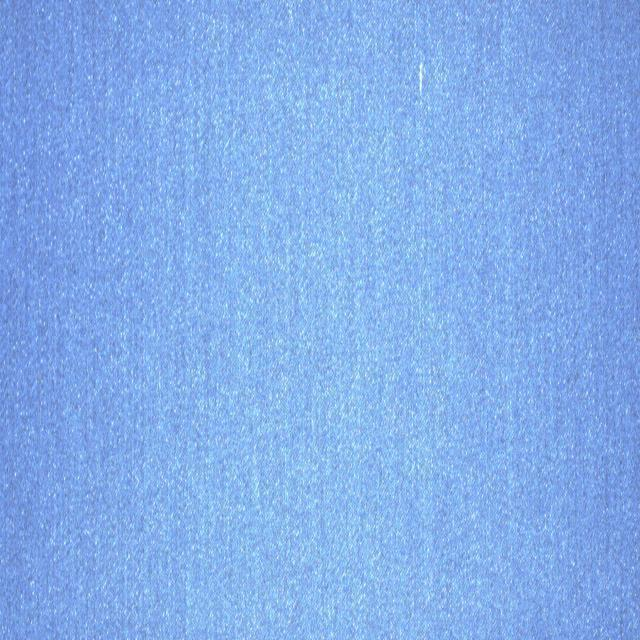Knot: (419, 61, 427, 94)
